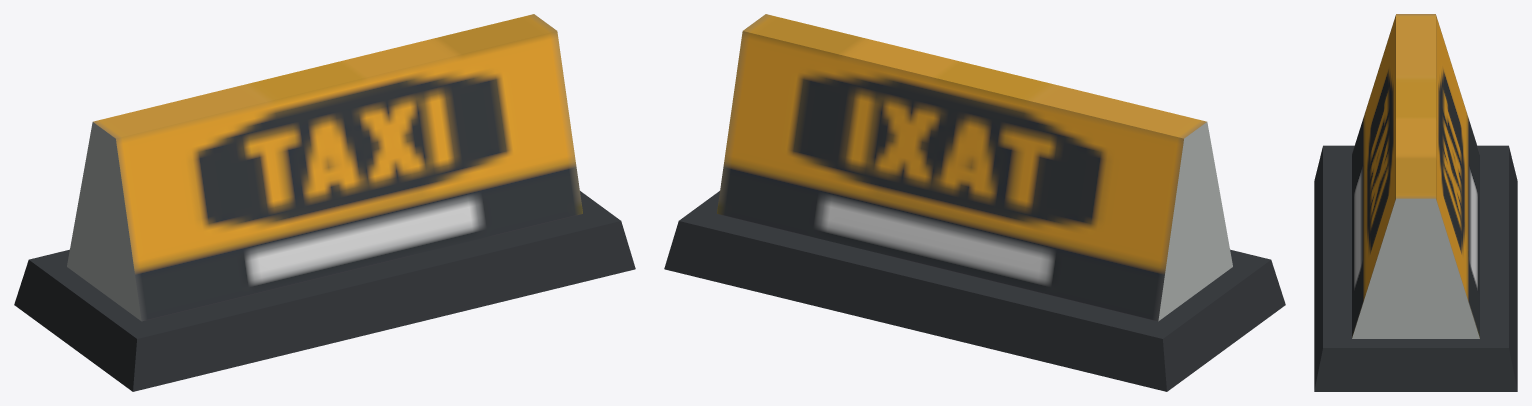
File: SM_Prop_Taxi_Sign_01.fbx
3 views of the same model, side by side, from view 1: azimuth 30°, elevation 25°; view 2: azimuth 150°, elevation 25°; view 3: azimuth 270°, elevation 25° (orthographic). The views are drawn at different scales.
Parts seen in each view (by area): view 1: SM_Prop_Taxi_Sign_01; view 2: SM_Prop_Taxi_Sign_01; view 3: SM_Prop_Taxi_Sign_01.
Boxes of the visible parts, bbox=[...] form: SM_Prop_Taxi_Sign_01: bbox=[14, 14, 635, 391]; SM_Prop_Taxi_Sign_01: bbox=[664, 14, 1285, 391]; SM_Prop_Taxi_Sign_01: bbox=[1314, 14, 1517, 391].
Size of the model in its own units: 38.8 by 15.54 by 15.88.
